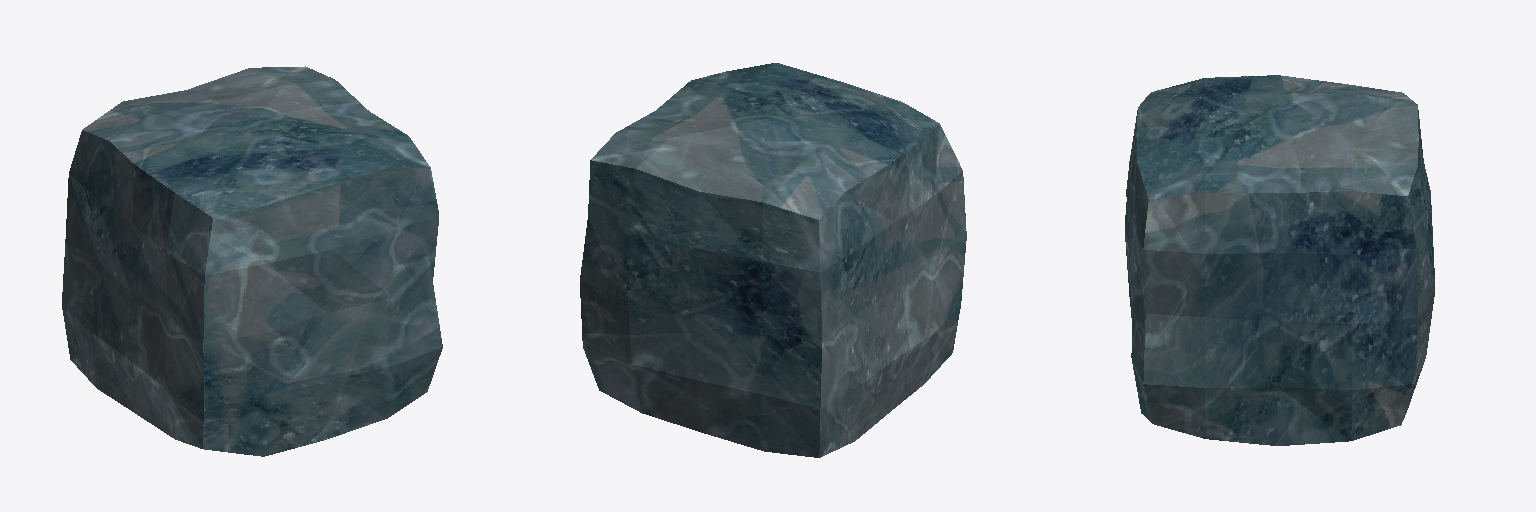
3 renders of one model, left to right at view 1: azimuth 30°, elevation 25°; view 2: azimuth 150°, elevation 25°; view 3: azimuth 270°, elevation 25°, orthographic.
Visible parts, largest first — view 1: KillerFrostIceBlock; view 2: KillerFrostIceBlock; view 3: KillerFrostIceBlock.
Part boxes in pixels (x1,y1,x2,y2): KillerFrostIceBlock: (62, 66, 442, 456); KillerFrostIceBlock: (580, 63, 966, 457); KillerFrostIceBlock: (1125, 75, 1434, 445).
Bounding box in the file's own units: 1.09 × 1.09 × 1.12.
1 materials, 1 textured.